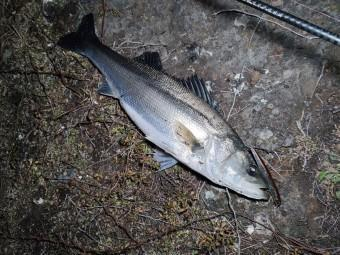fish: (59, 14, 273, 199)
